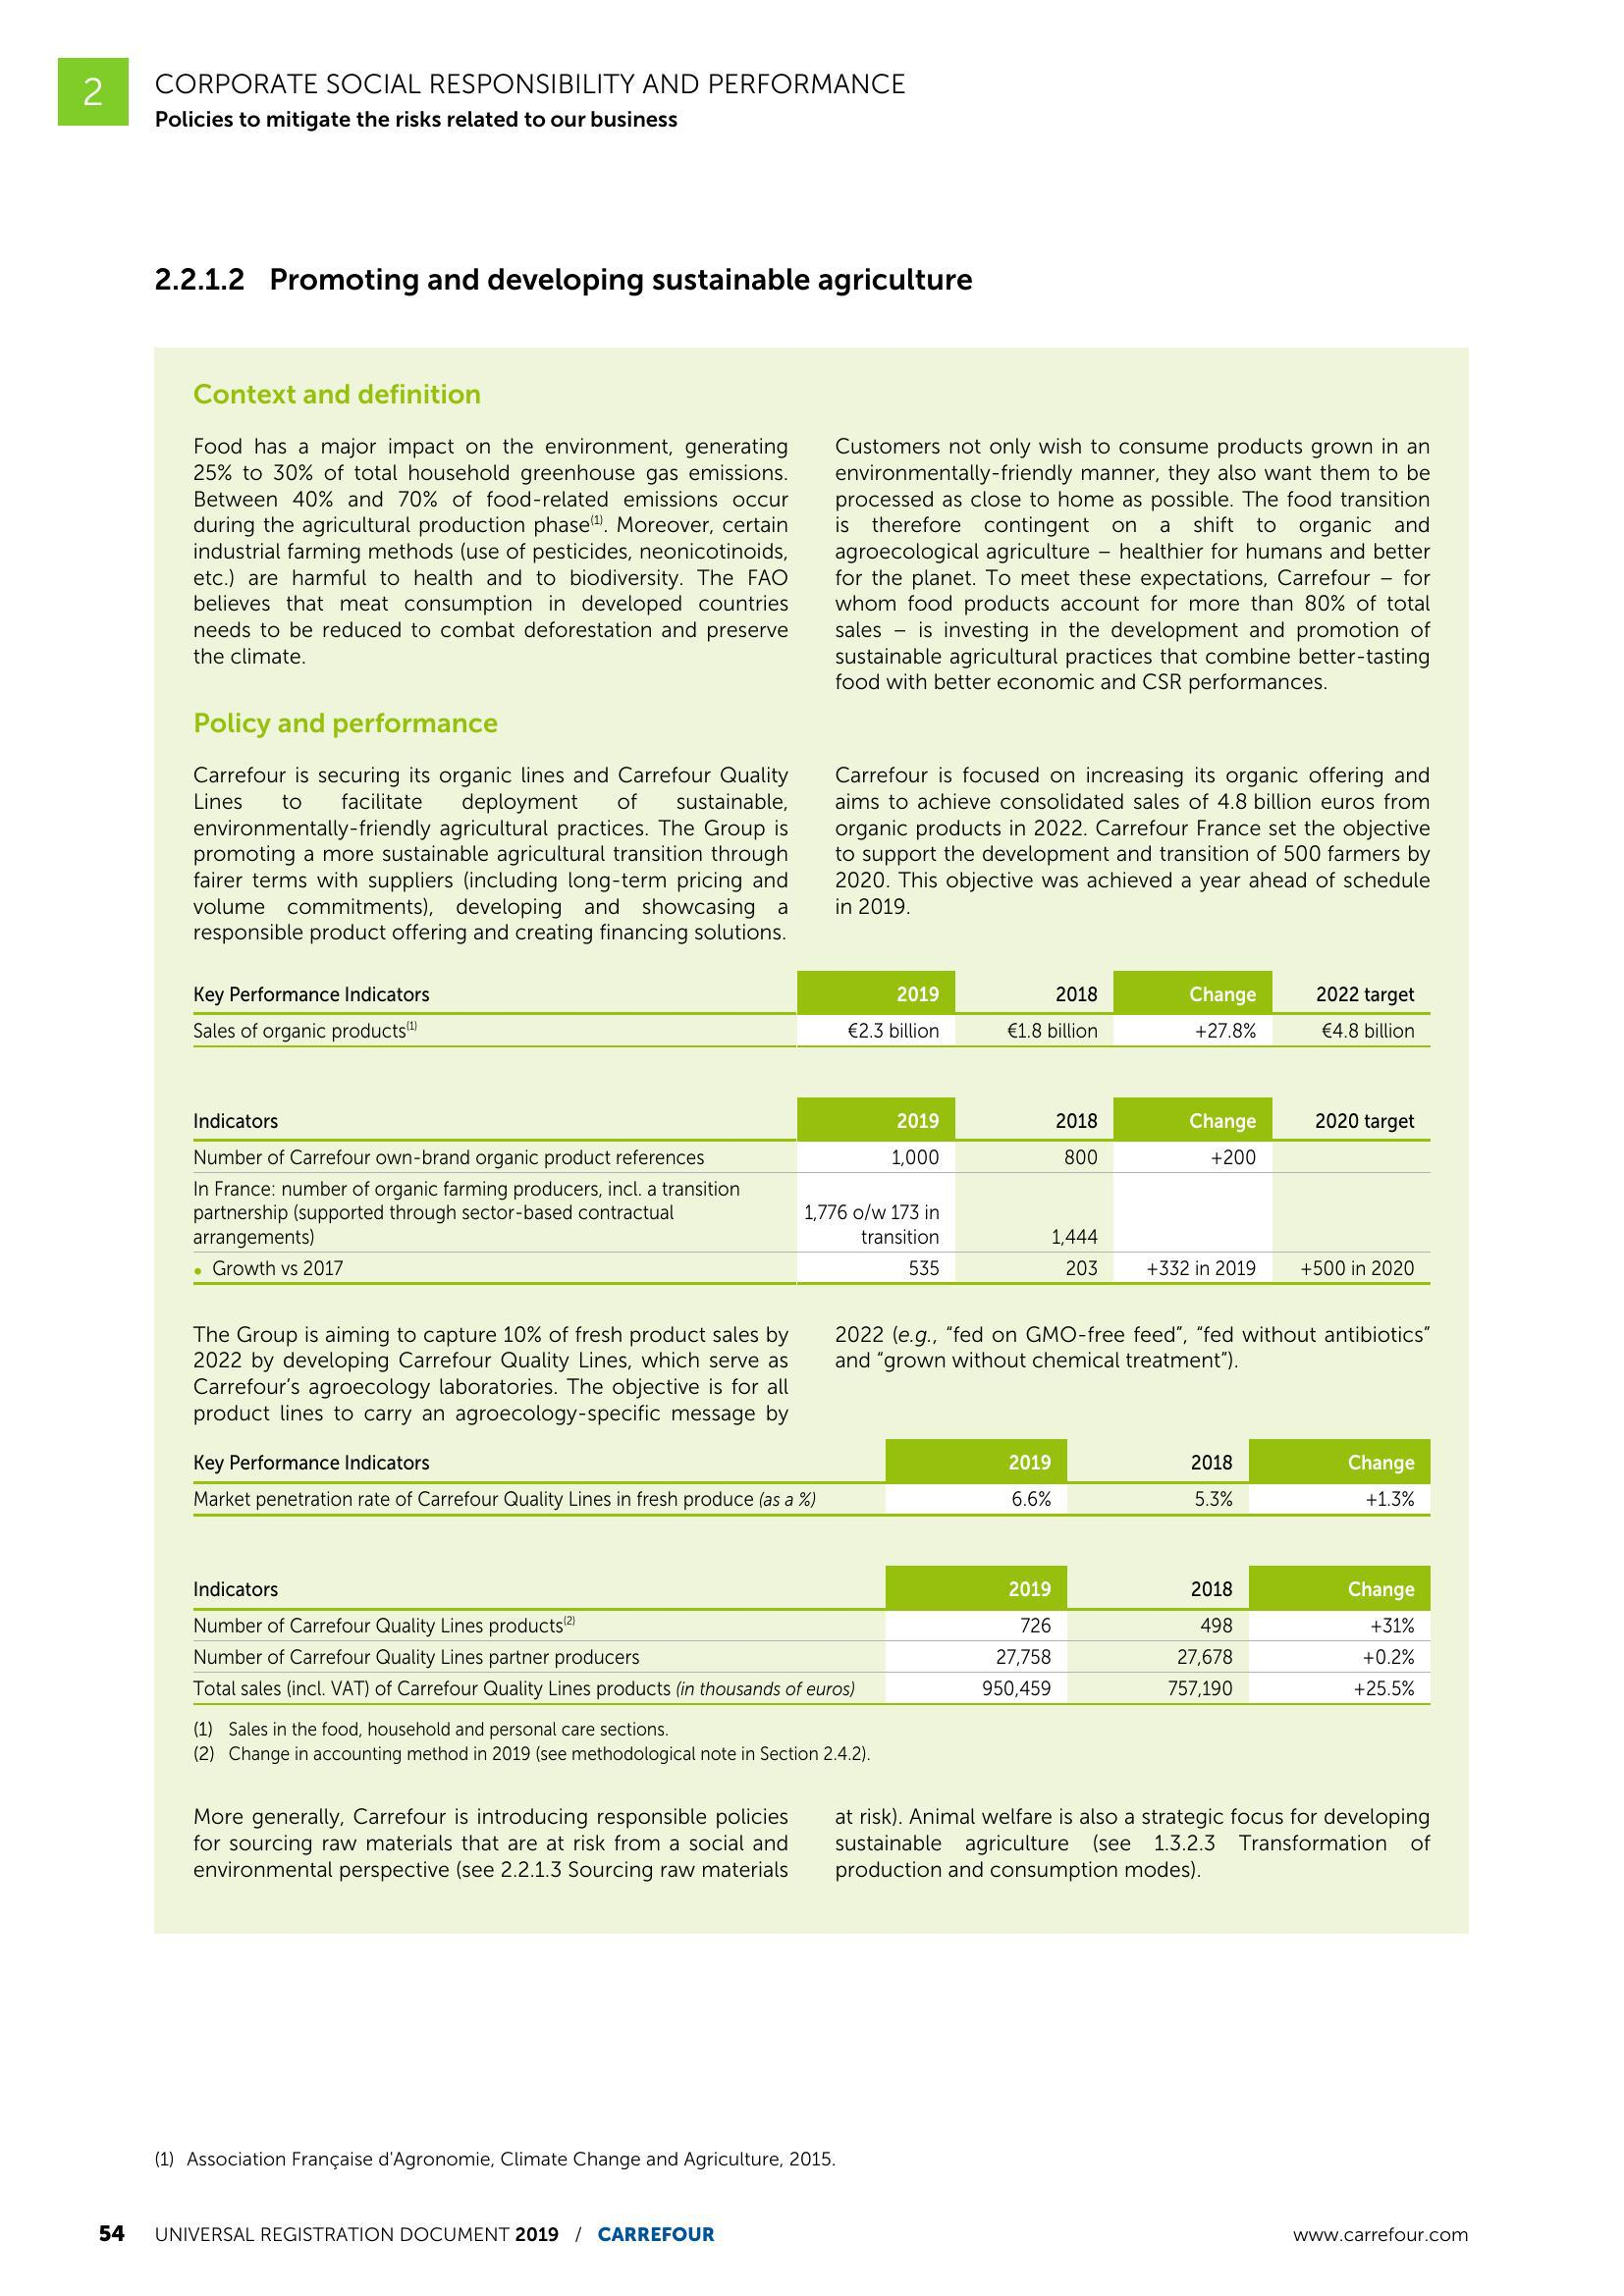cell: (186, 1173, 798, 1253), (185, 1563, 889, 1609), (186, 1047, 798, 1096), (186, 968, 798, 1014), (186, 1096, 798, 1140), (185, 1609, 889, 1641), (185, 1641, 889, 1672), (185, 1672, 889, 1704), (186, 1014, 798, 1047), (186, 1140, 798, 1173), (186, 1253, 798, 1282), (1272, 1173, 1432, 1253), (798, 1173, 956, 1253), (956, 1173, 1114, 1253), (1114, 1173, 1272, 1253), (1246, 1563, 1432, 1609), (889, 1563, 1070, 1609), (1070, 1563, 1246, 1609), (1272, 1047, 1432, 1096), (798, 1047, 956, 1096), (956, 1047, 1114, 1096), (1114, 1047, 1272, 1096), (1272, 968, 1432, 1014), (798, 968, 956, 1014), (956, 968, 1114, 1014), (1114, 968, 1272, 1014), (1272, 1096, 1432, 1140), (798, 1096, 956, 1140), (956, 1096, 1114, 1140), (1114, 1096, 1272, 1140), (1246, 1609, 1432, 1641), (1246, 1641, 1432, 1672), (1246, 1672, 1432, 1704), (889, 1609, 1070, 1641), (889, 1641, 1070, 1672), (889, 1672, 1070, 1704), (1070, 1609, 1246, 1641), (1070, 1641, 1246, 1672), (1070, 1672, 1246, 1704), (1272, 1014, 1432, 1047), (1272, 1140, 1432, 1173), (798, 1014, 956, 1047), (956, 1014, 1114, 1047), (1114, 1014, 1272, 1047), (798, 1140, 956, 1173), (956, 1140, 1114, 1173), (1114, 1140, 1272, 1173), (1272, 1253, 1432, 1282), (798, 1253, 956, 1282), (956, 1253, 1114, 1282), (1114, 1253, 1272, 1282)
table: (186, 968, 1432, 1282), (185, 1563, 1432, 1704)
